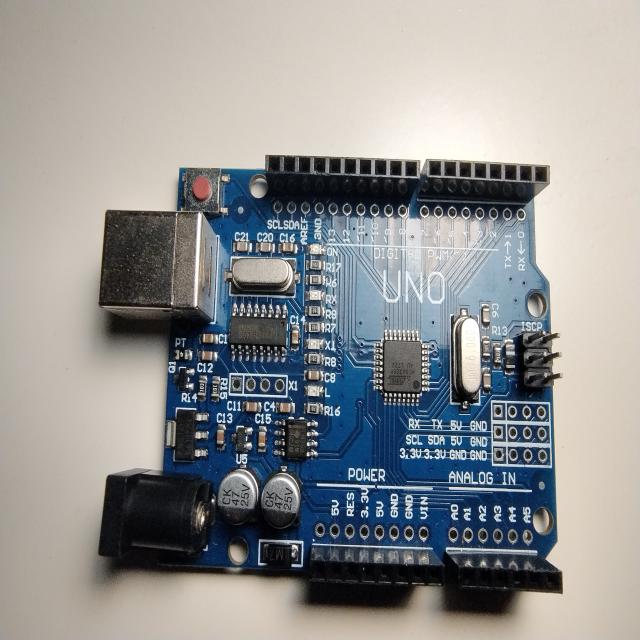arduino: (92, 136, 574, 624)
